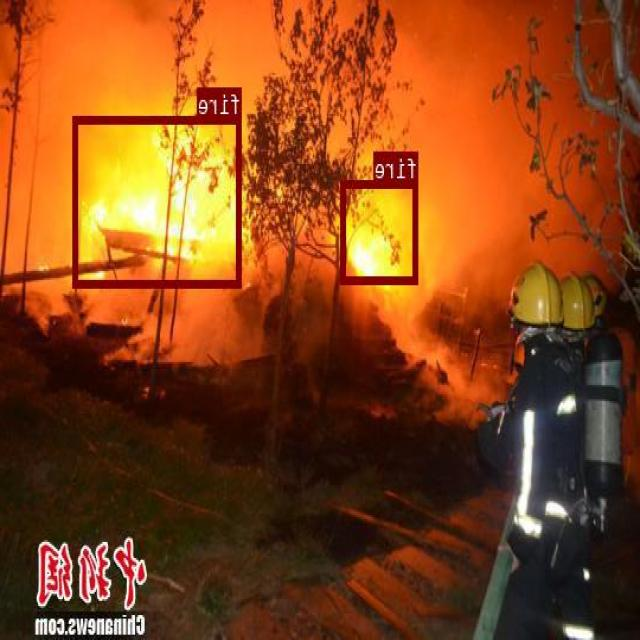fire: (74, 115, 242, 286), (342, 179, 419, 282)
